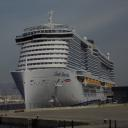cruises: (10, 10, 118, 112)
